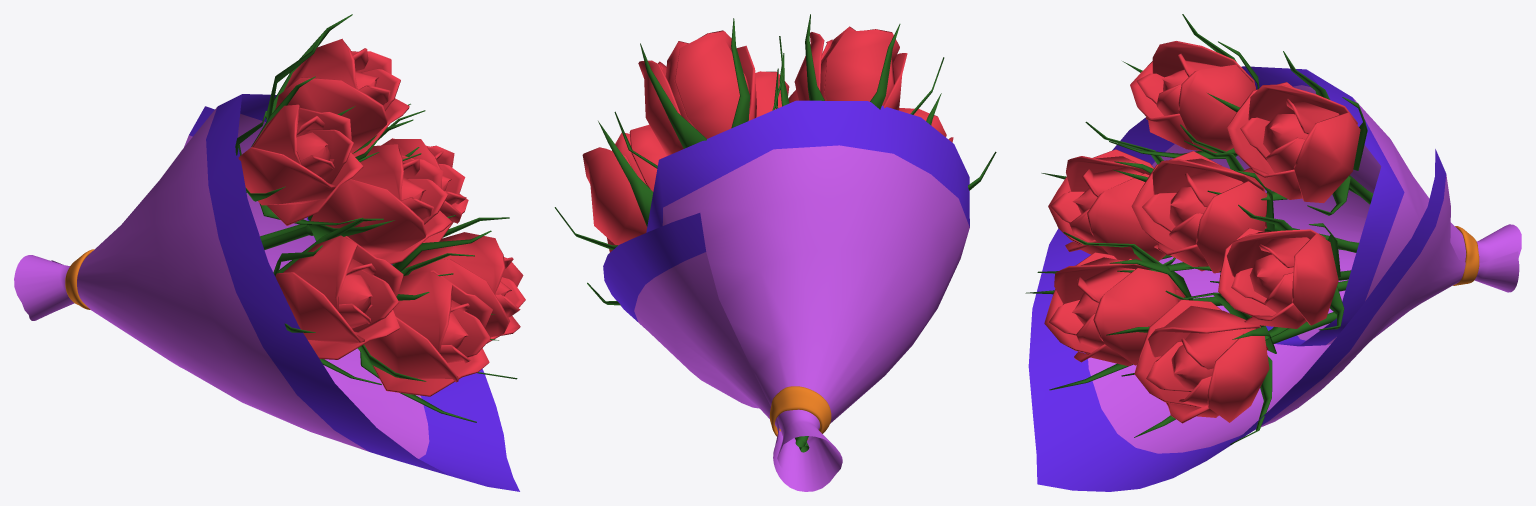
The model's file is Bouquet.fbx.
The picture shows the model from 3 angles, left to right: view 1: azimuth 30°, elevation 25°; view 2: azimuth 150°, elevation 25°; view 3: azimuth 270°, elevation 25°; orthographic projection. The views are drawn at different scales.
Visible parts, largest first — view 1: Bouquet; view 2: Bouquet; view 3: Bouquet.
Boxes of the visible parts, bbox=[...] form: Bouquet: bbox=[14, 14, 525, 491]; Bouquet: bbox=[554, 14, 996, 491]; Bouquet: bbox=[1025, 14, 1521, 491].
Size of the model in its own units: 43.65 by 44.19 by 50.18.
